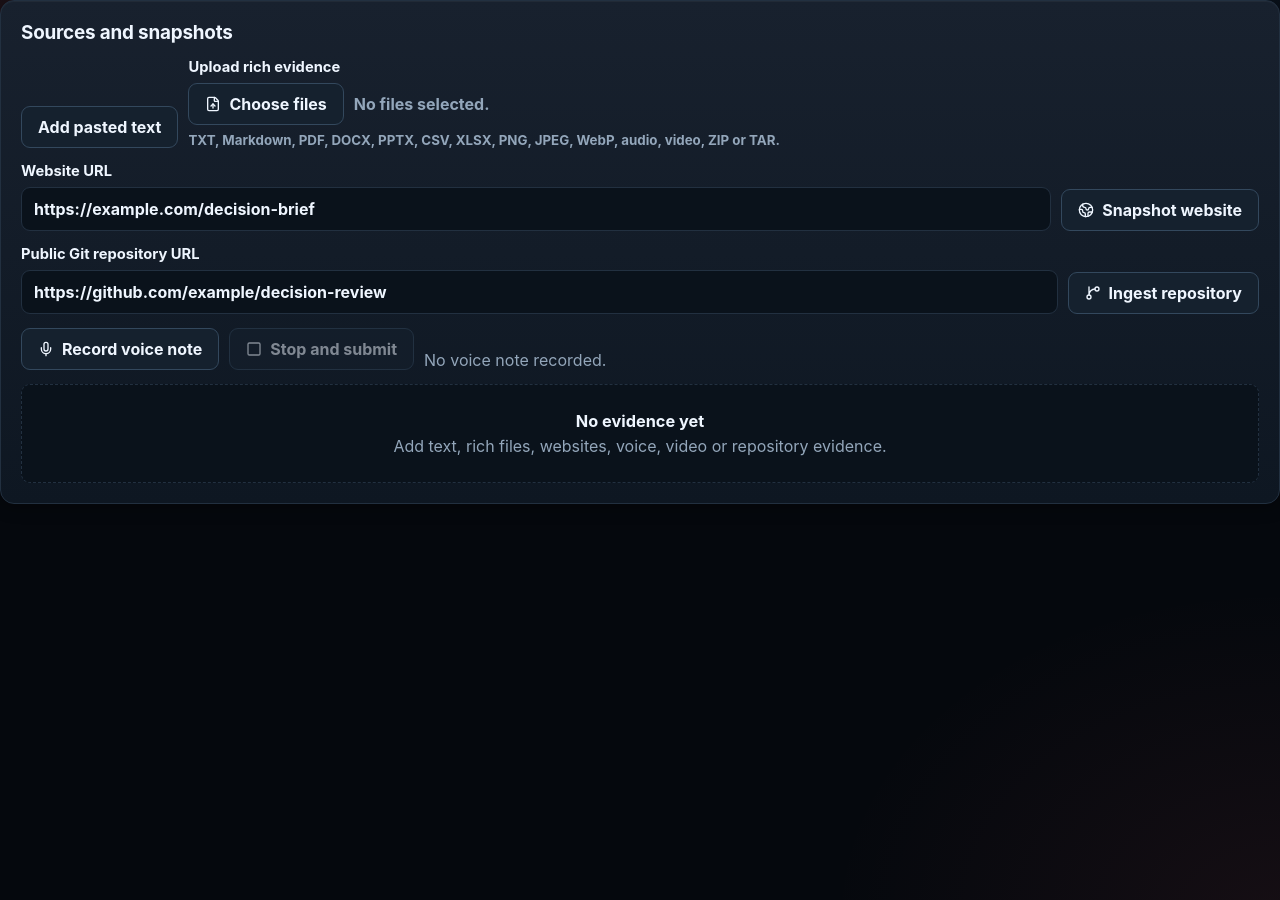
Test case: Stage 2 voice source intake › maps NotAllowedError recorder failures to helpful guidance
Click the button "Record voice note". click: (120, 349)
box: [21,328,219,370]
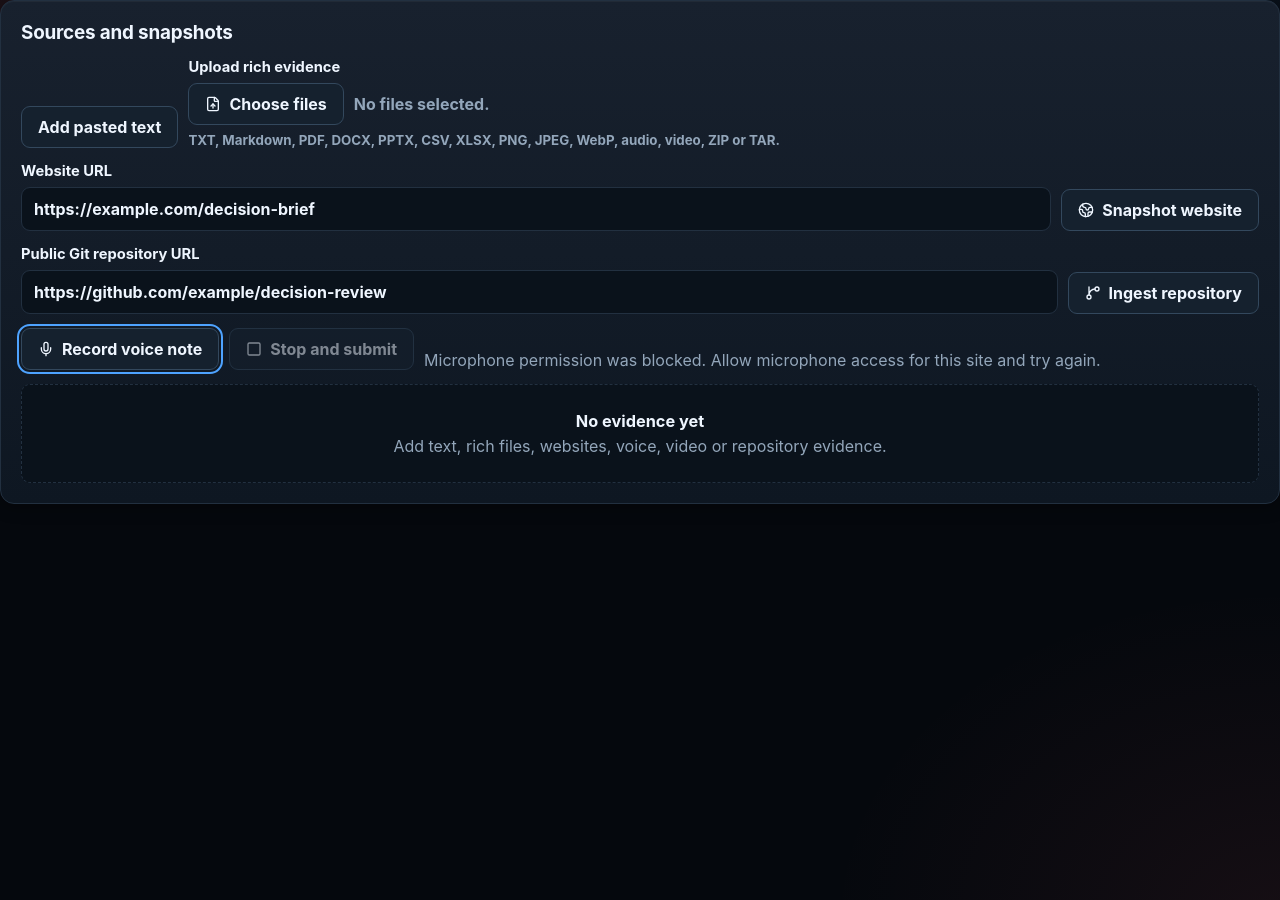
Now the text "Microphone permission was blocked" is shown, box [424,350,1101,370]
